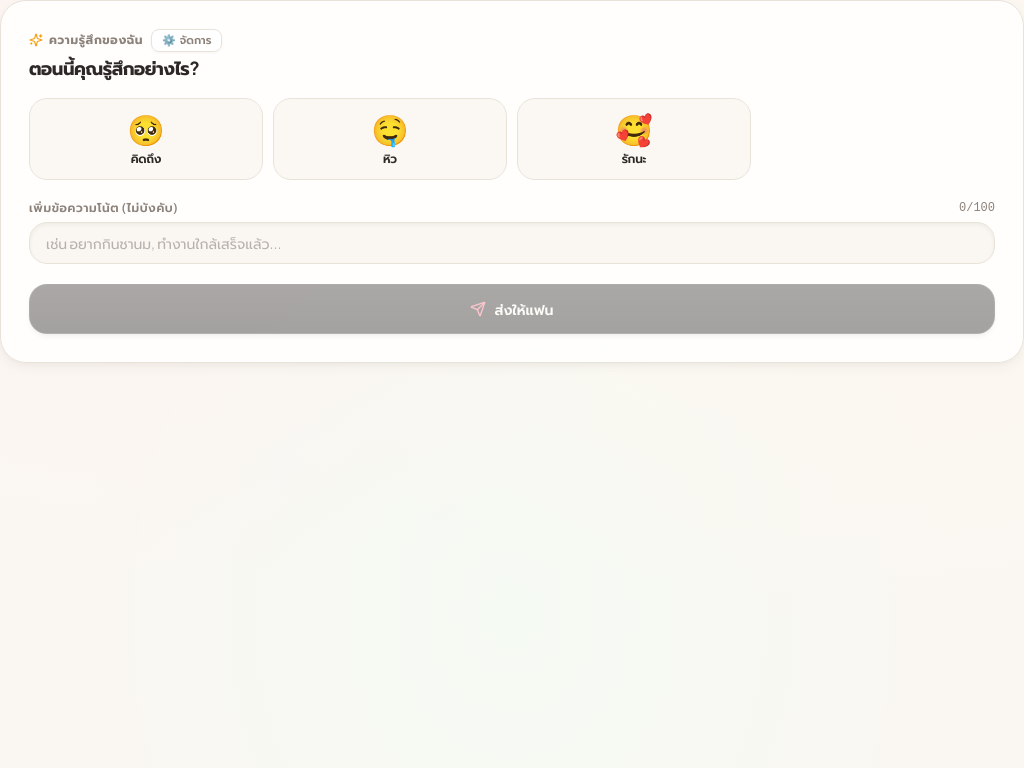
Test: Manage Reactions Modal & MyMoodCard Integration › MyMoodCard Integration with Manage Modal › opens ManagePresetsModal when "จัดการ" is clicked and updates card presets upon modification
This screenshot has width=1024, height=768.
Expected: the text "จัดการความรู้สึก" is not shown
Click "จัดการ"
Click the button "⚙️ จัดการ" at coordinates (187, 40), box [151, 29, 222, 52]
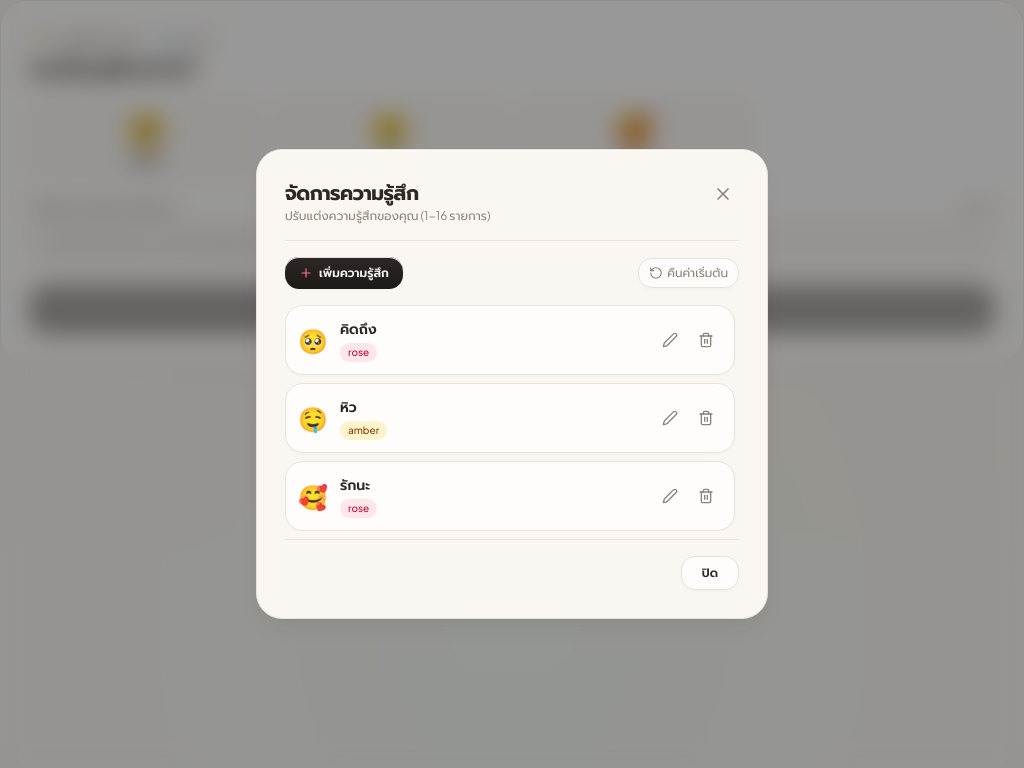
Expected: the heading "จัดการความรู้สึก" is shown, [285, 179, 418, 204]
